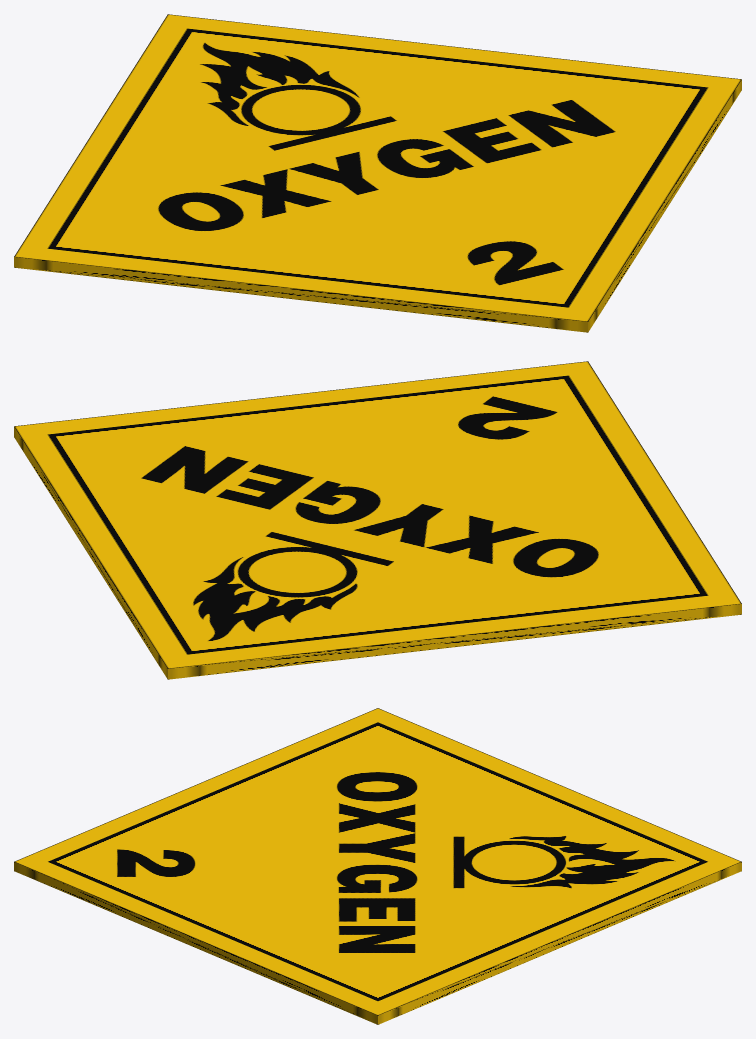
Rendered from hazmat_oxygen.dae.
3 renders of one model, top to bottom at view 1: azimuth 30°, elevation 25°; view 2: azimuth 150°, elevation 25°; view 3: azimuth 270°, elevation 25°, orthographic. The views are drawn at different scales.
Parts seen in each view (by area): view 1: Sign_Material.018; view 2: Sign_Material.018; view 3: Sign_Material.018.
Boxes of the visible parts, bbox=[...] form: Sign_Material.018: bbox=[14, 14, 741, 332]; Sign_Material.018: bbox=[14, 361, 741, 679]; Sign_Material.018: bbox=[14, 708, 741, 1024].
Bounding box in the file's own units: 0.1414 × 0.1414 × 0.002.
Materials: 1 (1 with a texture image).
